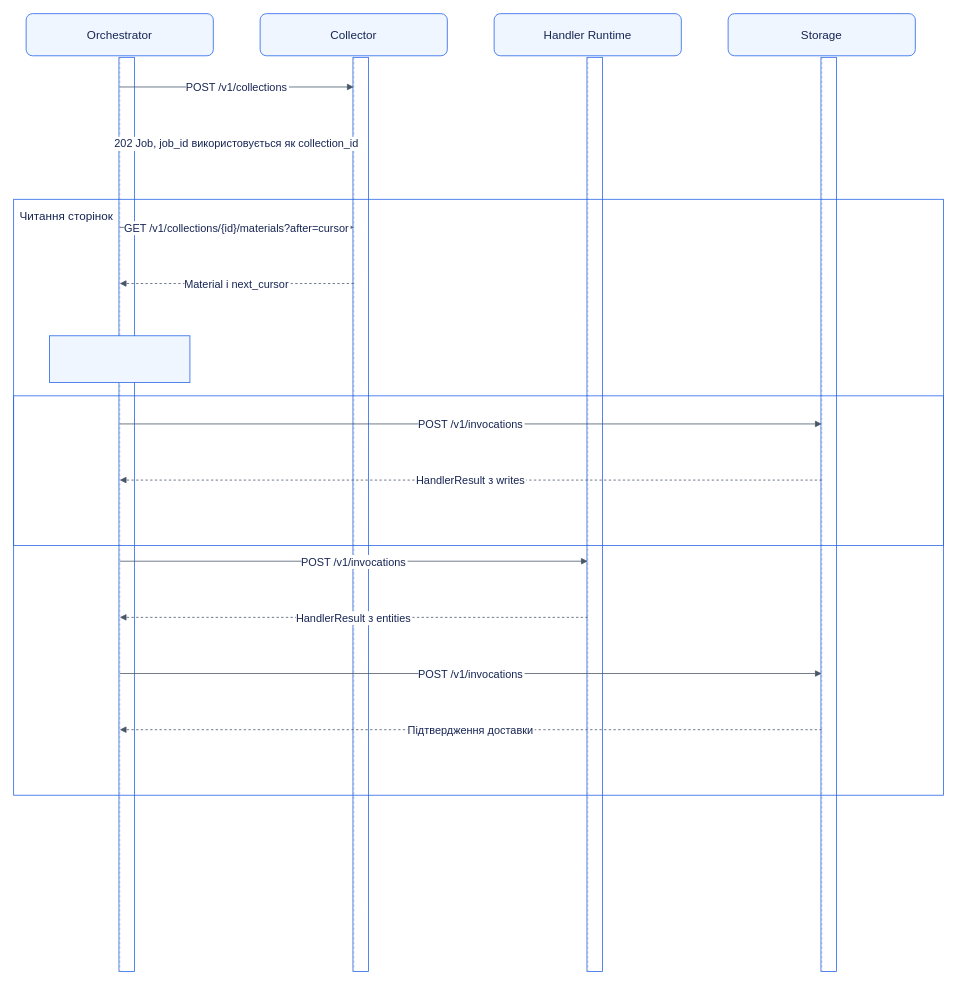
Some shapes in this 957 by 986 pixel diagram are drawn without their labels. The box of each missing label's shape, as (x1, y1, x2, y2) in pixels:
Етап збереження RAW: (13, 395, 943, 546)
Зберегти items і cursor у власній транзакції: (49, 335, 190, 383)
